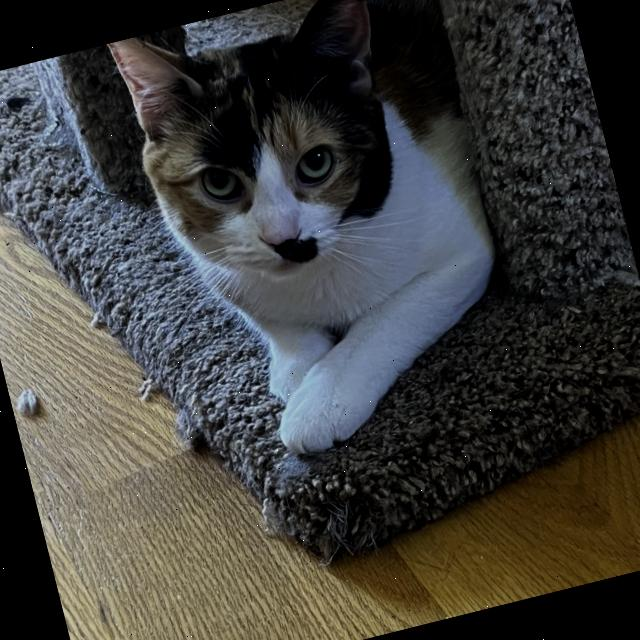calico_cat: (84, 0, 453, 339)
